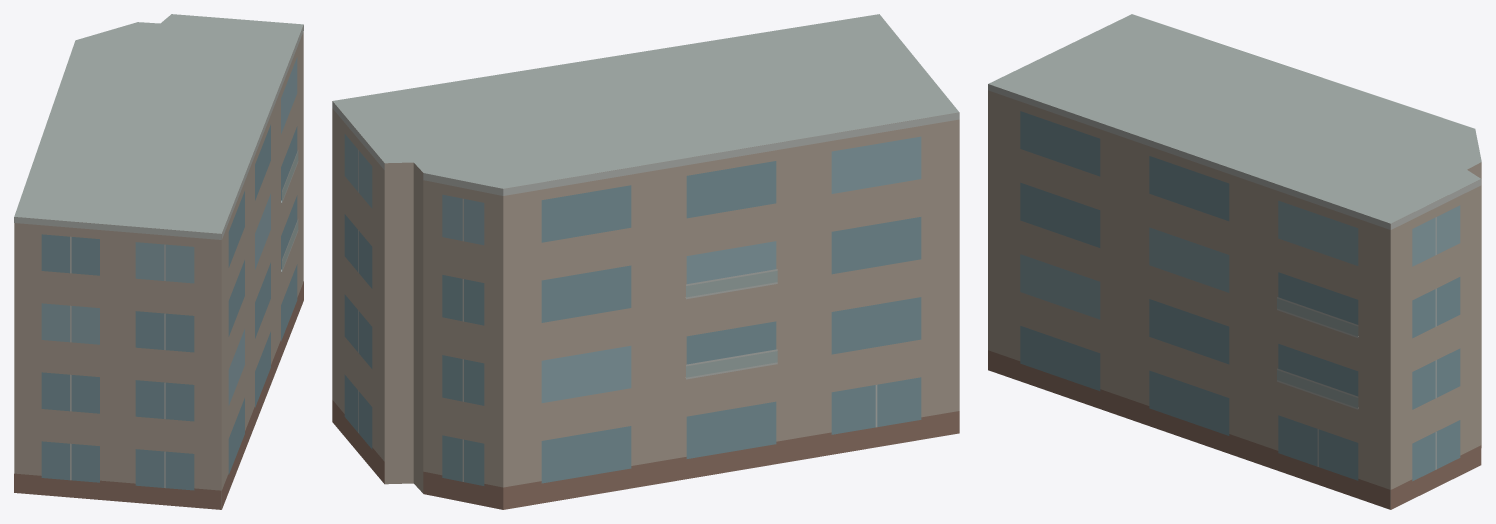
Rendered from survey-upis-32699423.glb.
3 views of the same model, side by side, from view 1: azimuth 30°, elevation 25°; view 2: azimuth 150°, elevation 25°; view 3: azimuth 270°, elevation 25° (orthographic). The views are drawn at different scales.
Parts seen in each view (by area): view 1: survey-upis-32699423.tmp; view 2: survey-upis-32699423.tmp; view 3: survey-upis-32699423.tmp.
Boxes of the visible parts, x1=… form: survey-upis-32699423.tmp: x1=14, y1=14, x2=303, y2=509; survey-upis-32699423.tmp: x1=332, y1=14, x2=959, y2=509; survey-upis-32699423.tmp: x1=988, y1=14, x2=1481, y2=509.
Bounding box in the file's own units: 17.14 × 10.9 × 17.05.
